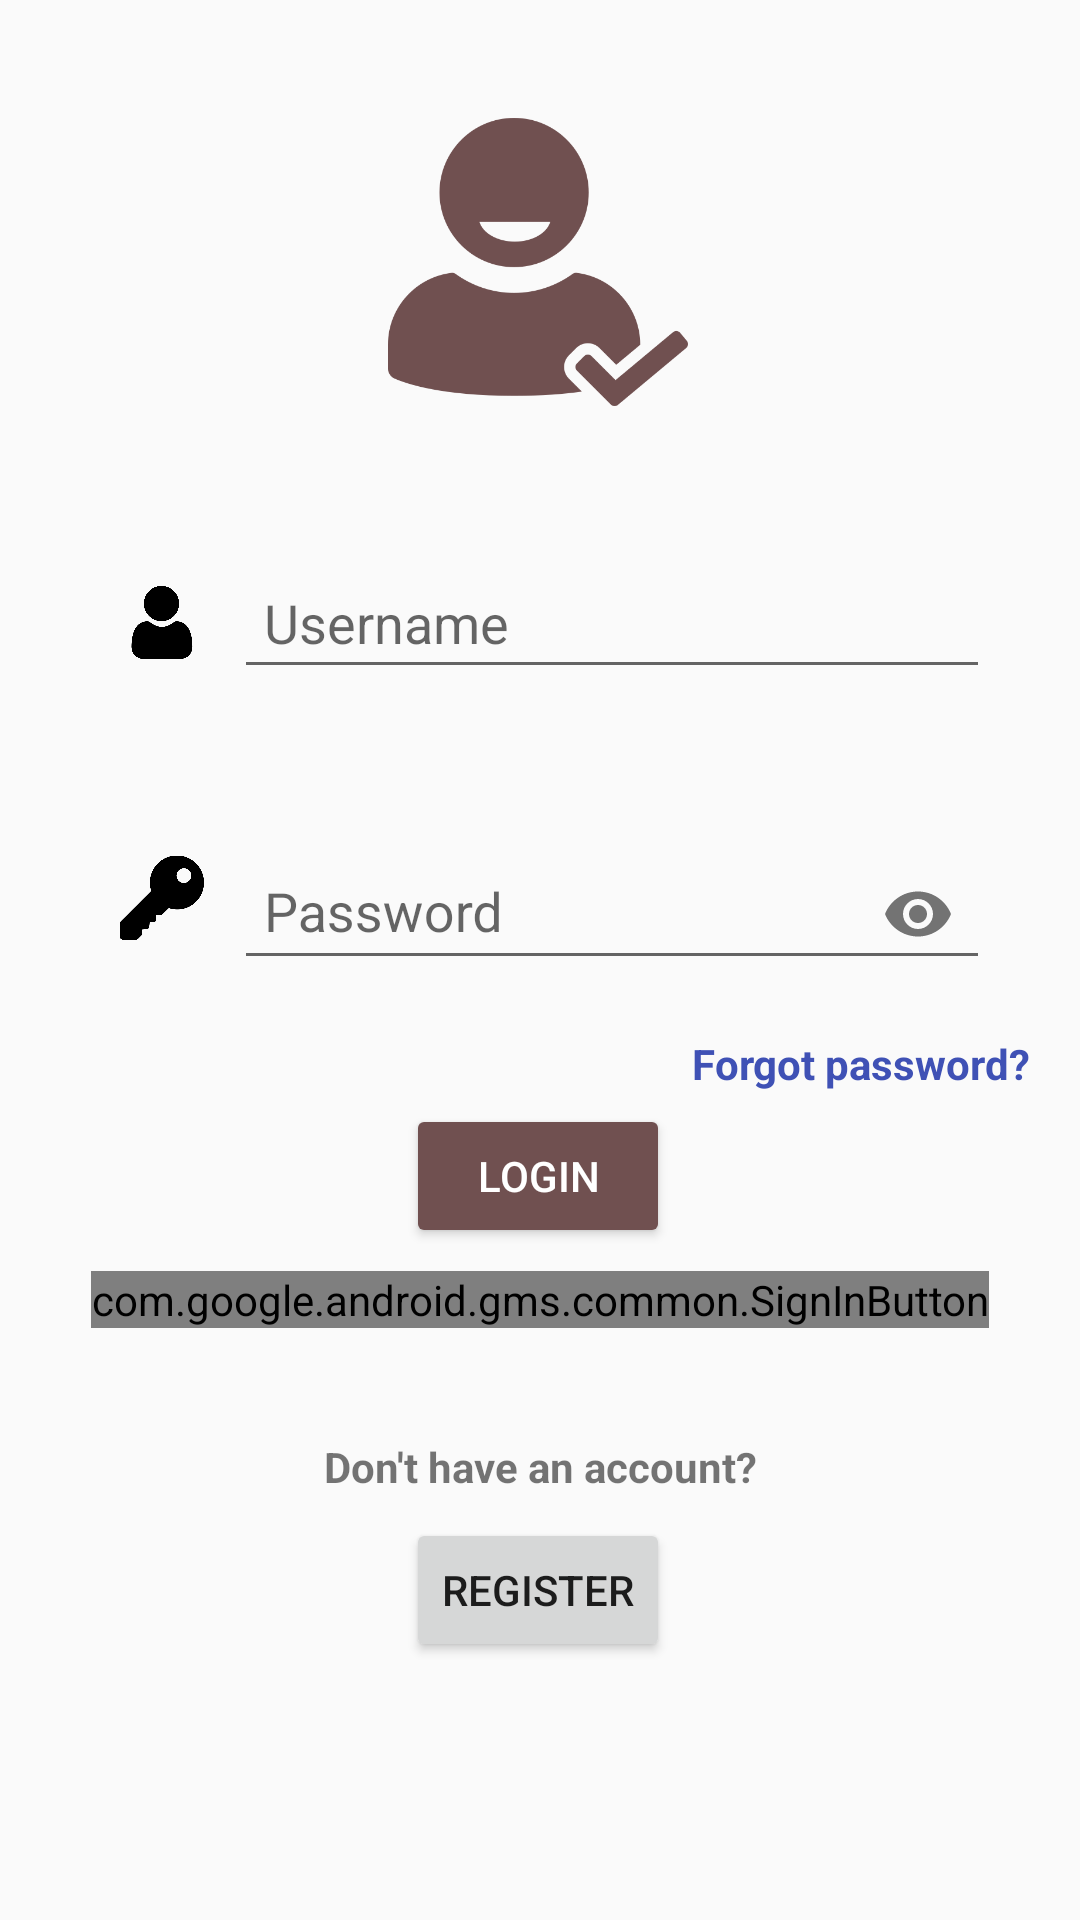

Icons on this 1080*1920 Android screen, each with the point to tap as point (x, y):
key: point (162, 898)
login: point (538, 262)
